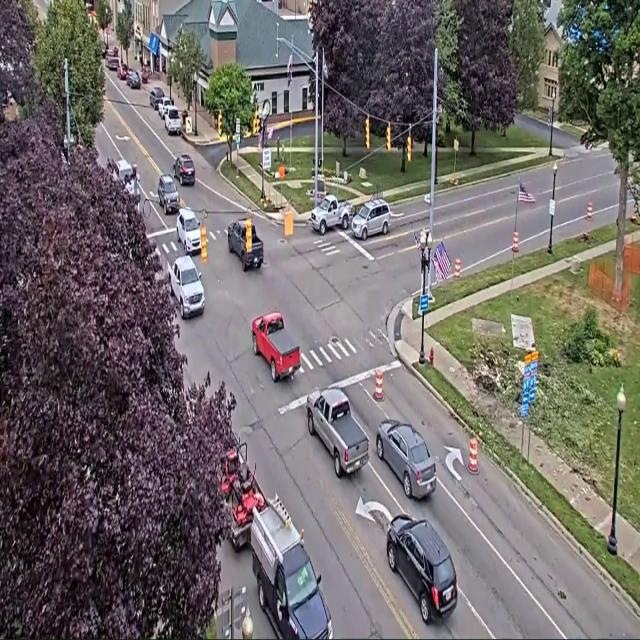car: (387, 515, 457, 623), (376, 420, 436, 499), (352, 200, 390, 240), (177, 208, 201, 255), (158, 175, 179, 214), (173, 154, 195, 185), (164, 106, 181, 135), (158, 96, 173, 119), (150, 87, 164, 110), (127, 70, 141, 88), (106, 52, 119, 71), (117, 63, 129, 80), (140, 66, 149, 83), (101, 42, 108, 58)
traffic signal: (200, 225, 208, 263), (245, 216, 252, 253), (386, 123, 392, 151), (365, 117, 370, 149), (253, 110, 259, 135), (407, 135, 411, 162), (218, 112, 221, 136)
truck: (251, 496, 332, 639), (306, 388, 368, 477), (221, 442, 266, 551), (252, 312, 300, 383), (168, 256, 204, 319), (228, 220, 263, 271), (310, 195, 352, 235), (107, 159, 136, 194)
